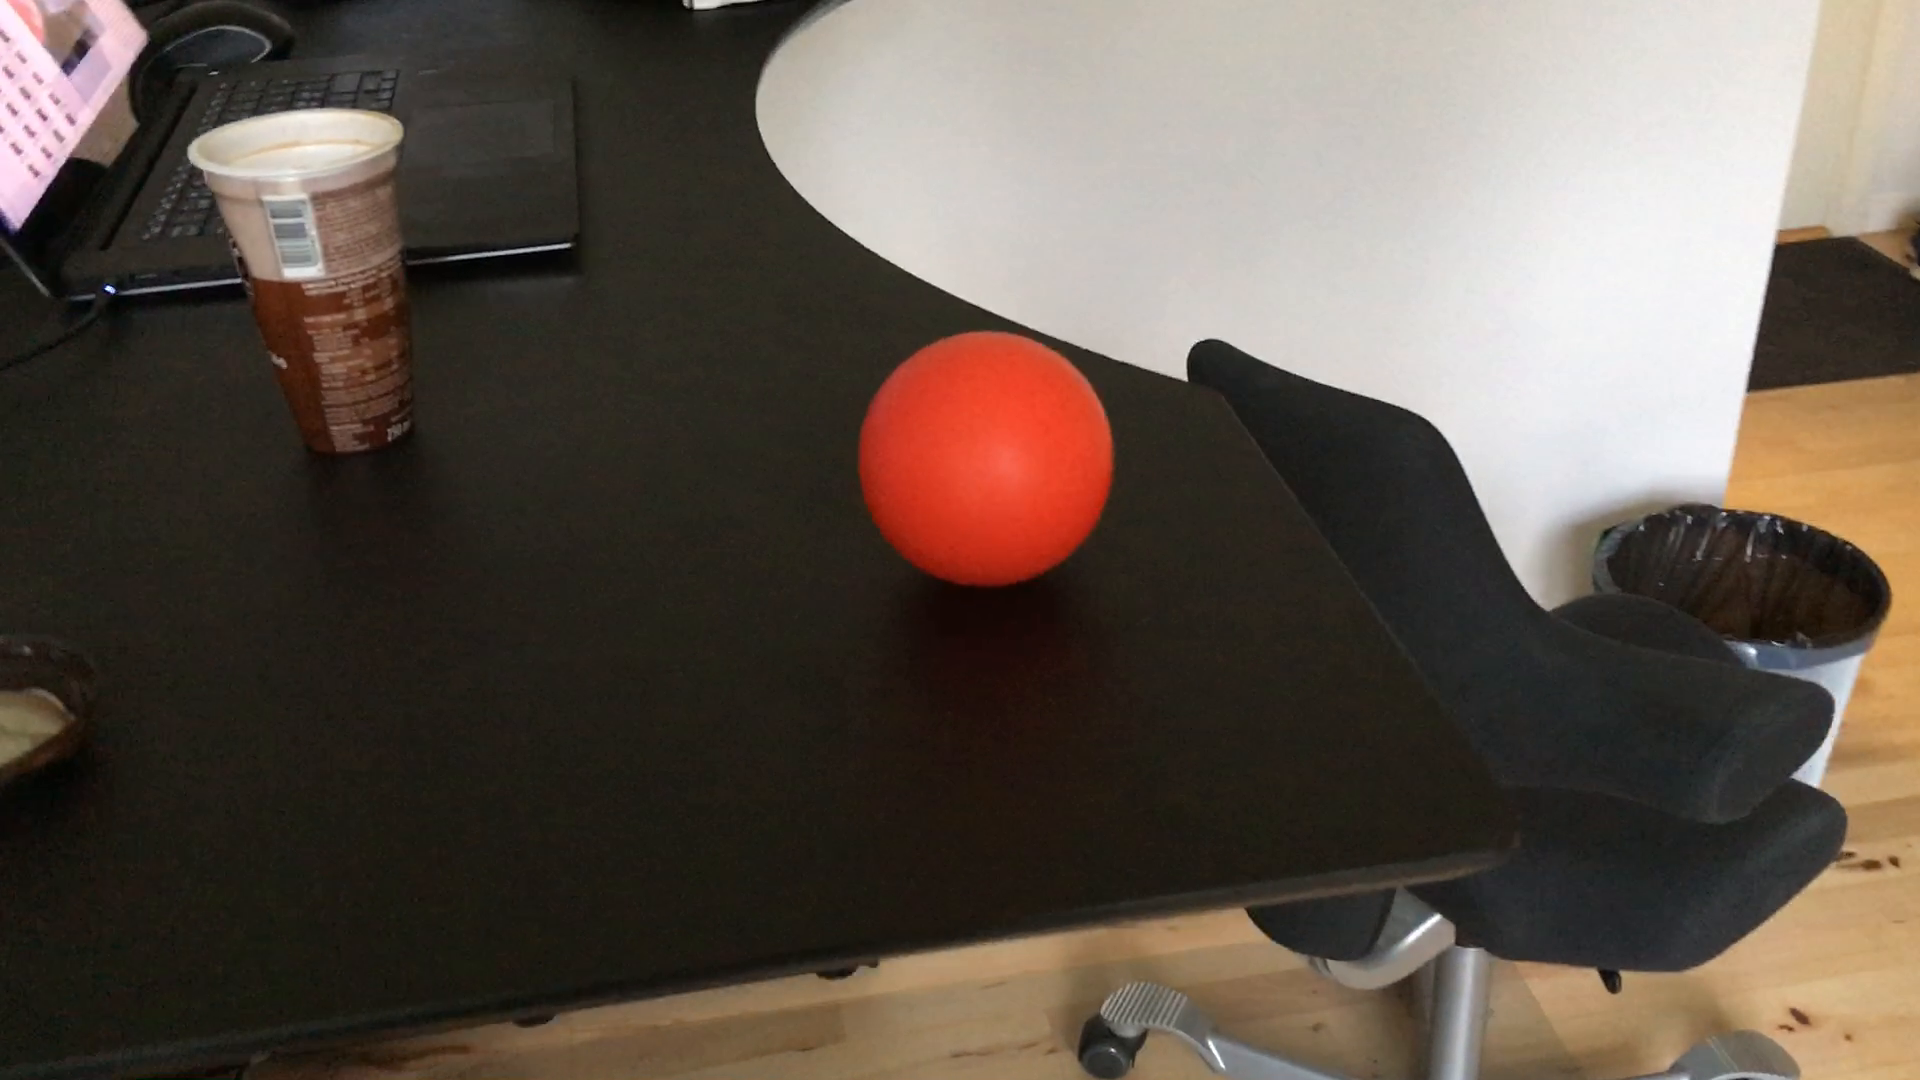Ball: (851, 324, 1124, 596)
